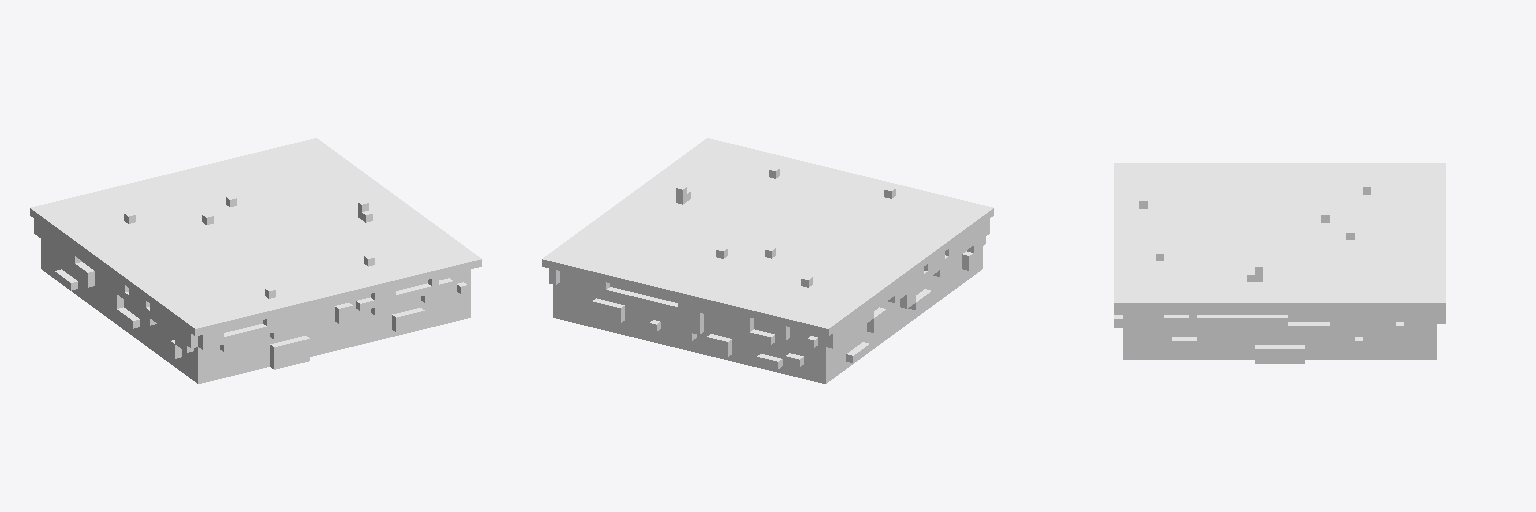
File: LavaObj-2.obj
The picture shows the model from 3 angles: view 1: azimuth 30°, elevation 25°; view 2: azimuth 150°, elevation 25°; view 3: azimuth 270°, elevation 25°; orthographic projection.
Parts seen in each view (by area): view 1: object 1; view 2: object 1; view 3: object 1.
Part boxes in pixels (left/top/right/bottom): object 1: left=30, top=138, right=481, bottom=383; object 1: left=542, top=138, right=993, bottom=383; object 1: left=1114, top=163, right=1445, bottom=363.
Size of the model in its own units: 4 by 1 by 4.